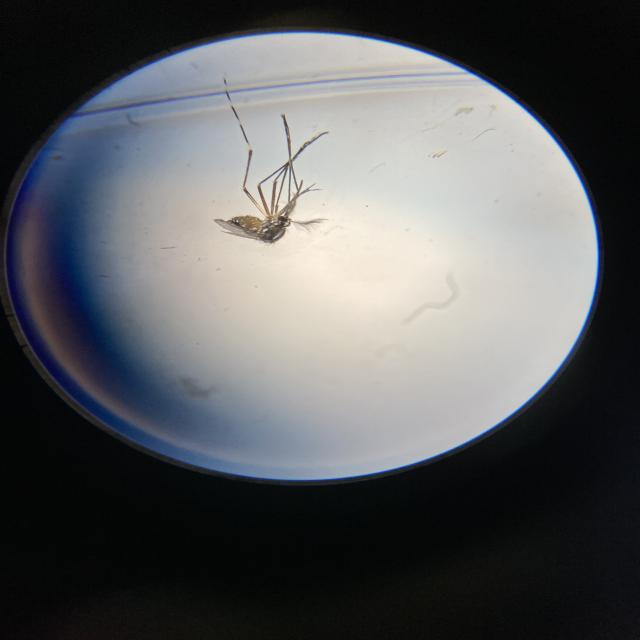albopictus: (198, 84, 336, 248)
